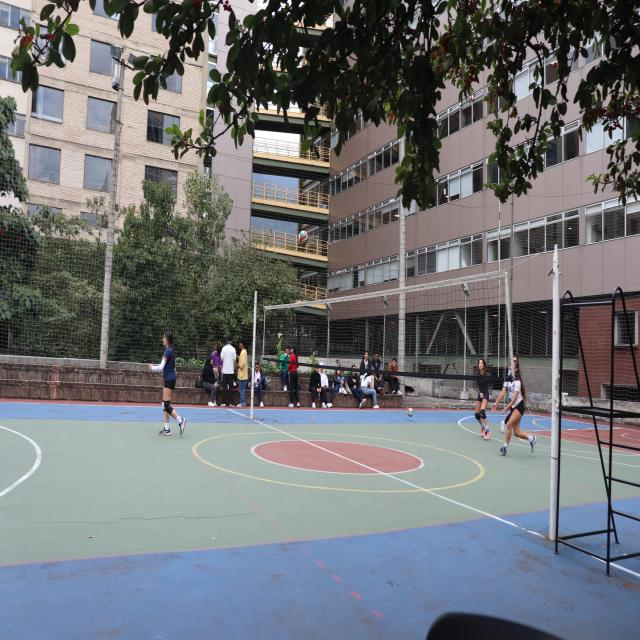volleyball: (298, 230, 308, 246), (407, 408, 413, 417)
